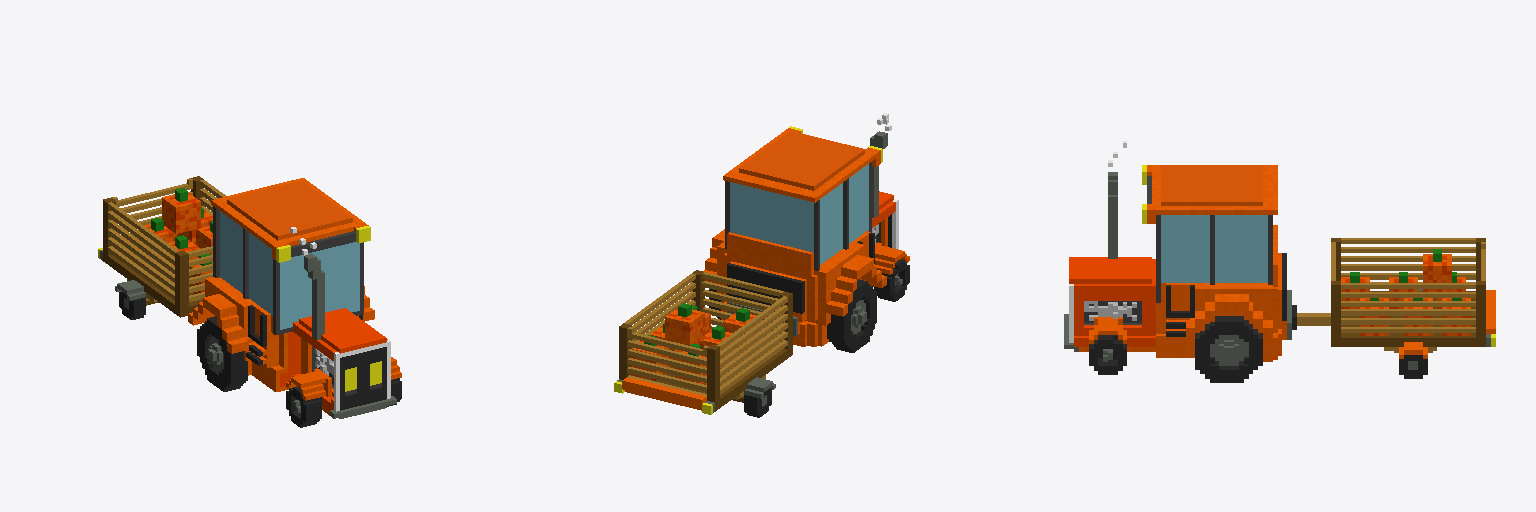
3 views of the same model, side by side, from view 1: azimuth 30°, elevation 25°; view 2: azimuth 150°, elevation 25°; view 3: azimuth 270°, elevation 25° (orthographic).
Visible parts, largest first — view 1: object 1; view 2: object 1; view 3: object 1.
Boxes of the visible parts, x1=… form: object 1: x1=98, y1=176, x2=401, y2=427; object 1: x1=614, y1=113, x2=909, y2=417; object 1: x1=1064, y1=141, x2=1495, y2=382.
Bounding box in the file's own units: 3.4 × 4.3 × 8.9.
1 materials, 1 textured.